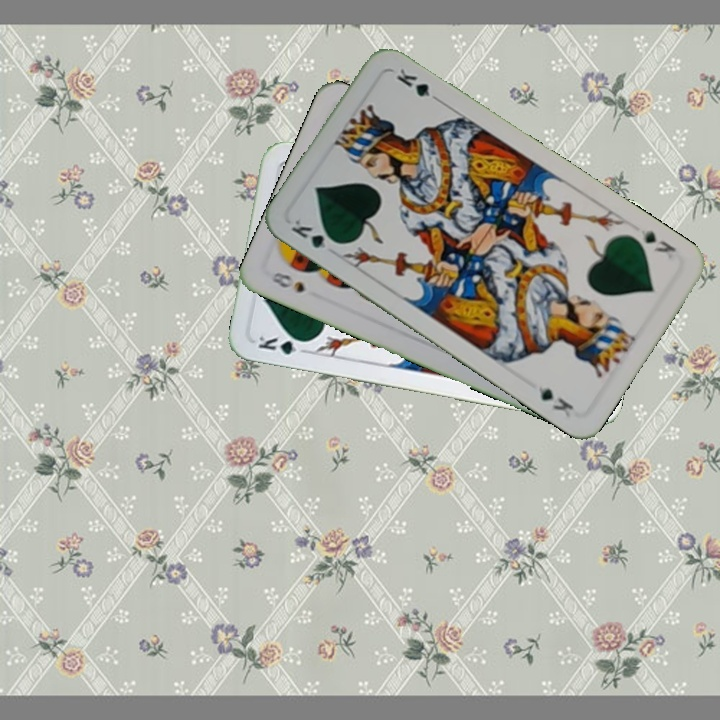GK: (287, 213, 343, 257), (254, 332, 312, 358), (636, 224, 679, 256)
S8: (267, 268, 307, 296)
